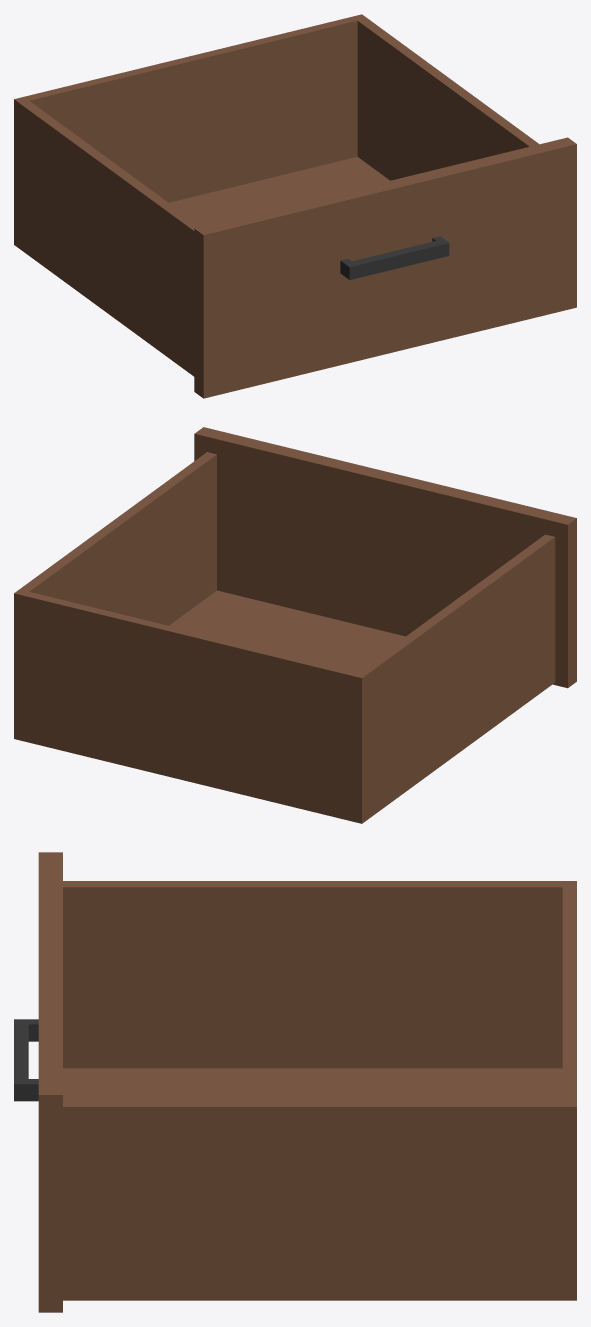
The model's file is Door2_C2_05.fbx.
3 renders of one model, top to bottom at view 1: azimuth 30°, elevation 25°; view 2: azimuth 150°, elevation 25°; view 3: azimuth 270°, elevation 25°, orthographic. The views are drawn at different scales.
Visible parts, largest first — view 1: Door2_C2_05; view 2: Door2_C2_05; view 3: Door2_C2_05.
Part boxes in pixels (x1,y1,x2,y2): Door2_C2_05: (14,14,576,398); Door2_C2_05: (14,427,576,823); Door2_C2_05: (14,852,576,1312).
Size of the model in its own units: 59 by 24.68 by 57.89.
